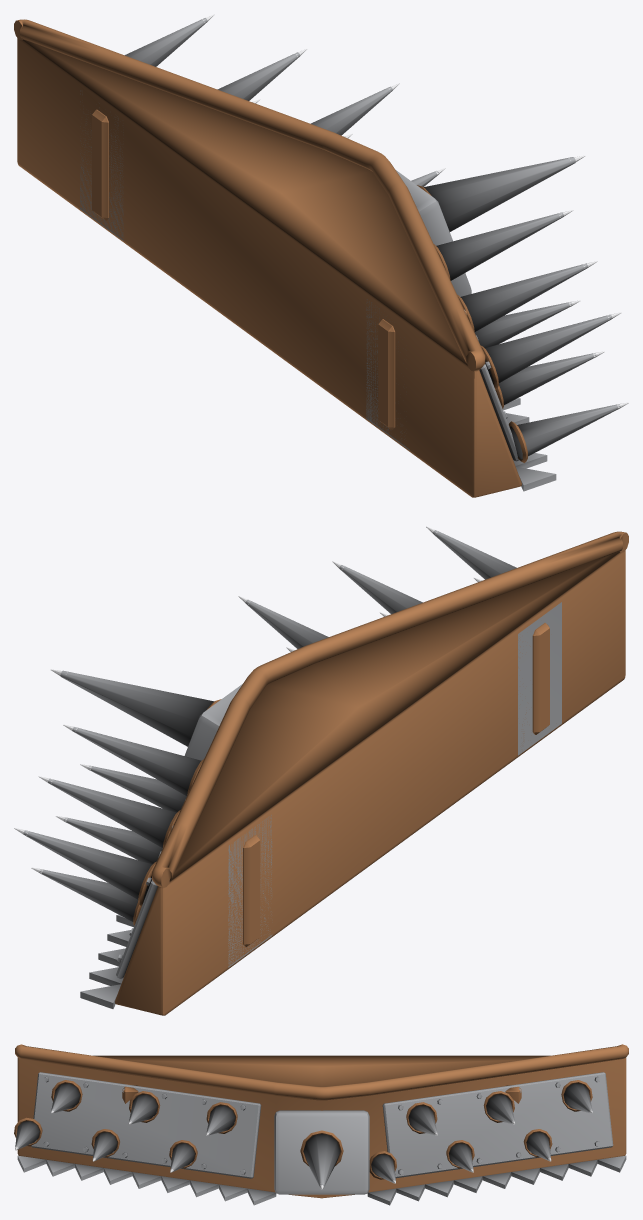
The model's file is bf_ram.glb.
3 views of the same model, one above another, from view 1: azimuth 30°, elevation 25°; view 2: azimuth 150°, elevation 25°; view 3: azimuth 270°, elevation 25° (orthographic). The views are drawn at different scales.
Visible parts, largest first — view 1: PART; view 2: PART; view 3: PART.
Part boxes in pixels (box(x1,y1,x2,y2)): PART: box(14, 14, 628, 497); PART: box(14, 526, 628, 1015); PART: box(14, 1044, 628, 1205).
Bounding box in the file's own units: 0.6967 × 0.2904 × 1.62.
